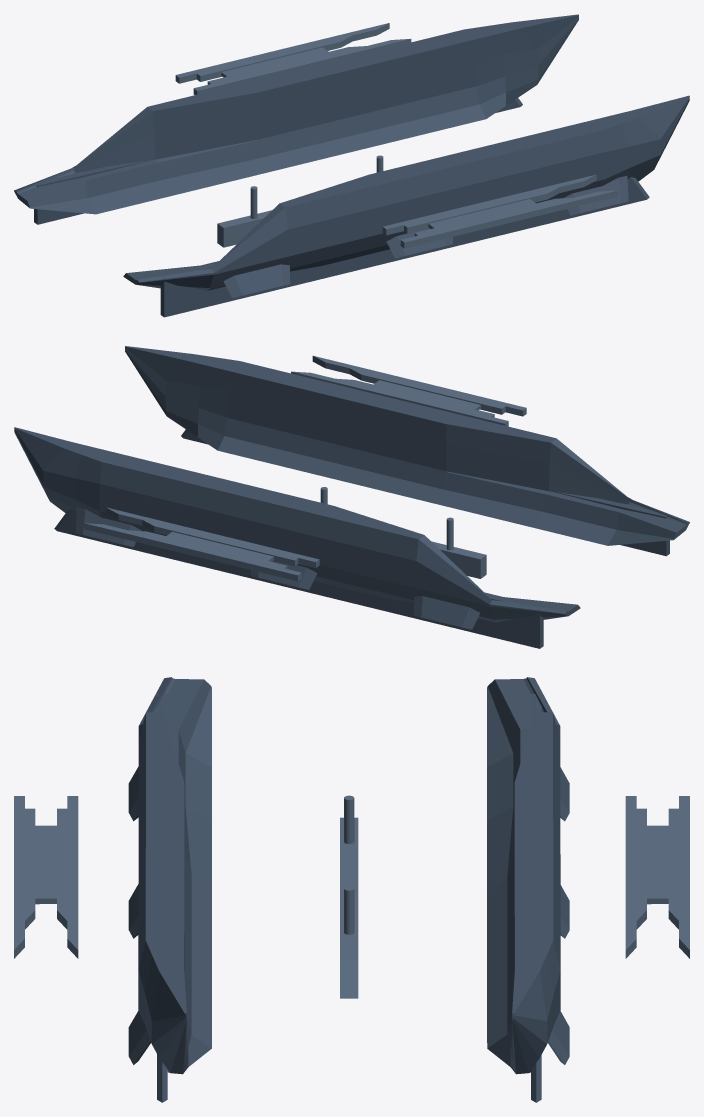
3 views of the same model, one above another, from view 1: azimuth 30°, elevation 25°; view 2: azimuth 150°, elevation 25°; view 3: azimuth 270°, elevation 25° (orthographic). The views are drawn at different scales.
Parts seen in each view (by area): view 1: 立方体.024, 立方体.015, 立方体.014, 立方体.005, 立方体.002, 立方体.017, 円柱.004, 立方体.020, 立方体.019, 立方体.018; view 2: 立方体.015, 立方体.024, 立方体.002, 立方体.020, 立方体.005, 立方体.016, 円柱.004, 立方体.014, 立方体.027, 立方体.026; view 3: 立方体.015, 立方体.024, 立方体.002, 立方体.005, 円柱.004, 立方体.019, 立方体.027, 立方体.014, 立方体.020.
Part boxes in pixels (box(x1,y1,x2,y2)): 立方体.024: box(14, 14, 578, 214); 立方体.015: box(123, 95, 689, 290); 立方体.014: box(160, 177, 649, 317); 立方体.005: box(382, 174, 618, 248); 立方体.002: box(175, 23, 411, 94); 立方体.017: box(223, 264, 290, 298); 円柱.004: box(217, 155, 383, 247); 立方体.020: box(34, 98, 522, 224); 立方体.019: box(563, 175, 628, 215); 立方体.018: box(386, 228, 452, 258); 立方体.015: box(125, 346, 689, 545); 立方体.024: box(14, 427, 580, 622); 立方体.002: box(84, 507, 319, 581); 立方体.020: box(54, 509, 543, 648); 立方体.005: box(291, 355, 526, 426); 立方体.016: box(414, 596, 480, 629); 円柱.004: box(320, 487, 486, 578); 立方体.014: box(181, 429, 669, 556); 立方体.027: box(75, 507, 141, 546); 立方体.026: box(251, 561, 317, 589); 立方体.015: box(138, 677, 211, 1074); 立方体.024: box(487, 677, 560, 1074); 立方体.002: box(625, 796, 689, 958); 立方体.005: box(14, 796, 78, 958); 円柱.004: box(340, 795, 358, 998); 立方体.019: box(128, 1011, 151, 1064); 立方体.027: box(548, 1011, 569, 1064); 立方体.014: box(157, 694, 167, 1102); 立方体.020: box(531, 694, 541, 1102).
Size of the model in its own units: 8.26 by 1.26 by 5.88.
